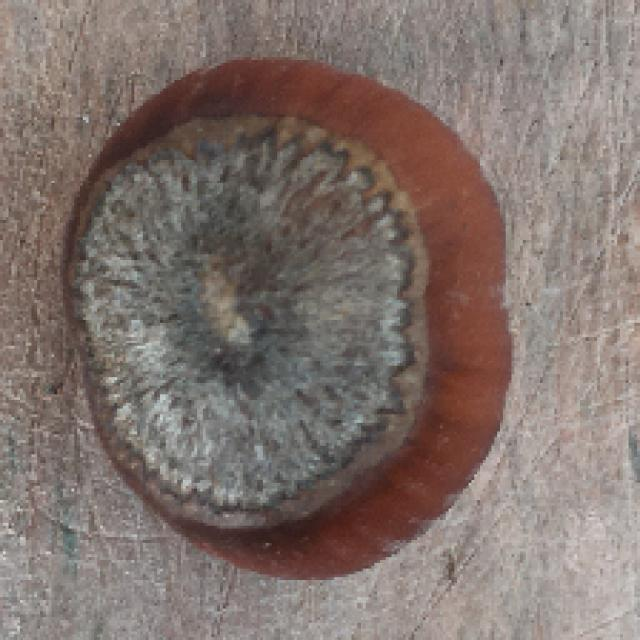damagedHazelnut: (58, 50, 521, 584)
